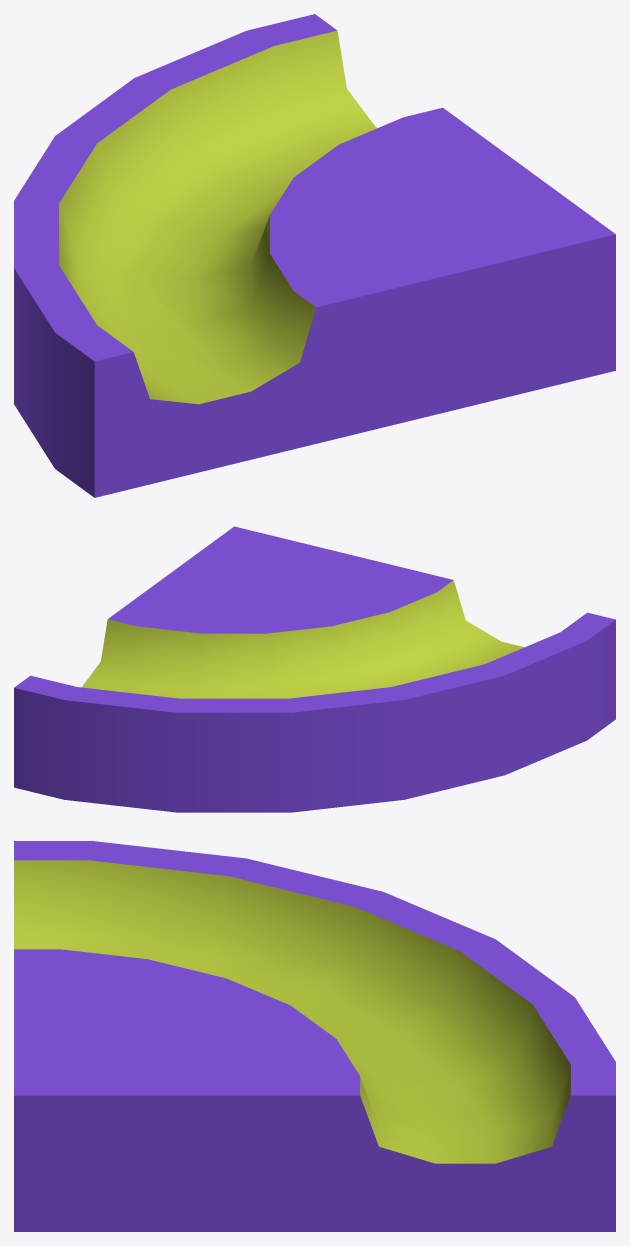
File: curve_solid-col.dae
The picture shows the model from 3 angles, top to bottom: view 1: azimuth 30°, elevation 25°; view 2: azimuth 150°, elevation 25°; view 3: azimuth 270°, elevation 25°; orthographic projection. The views are drawn at different scales.
Visible parts, largest first — view 1: curve_solid-col; view 2: curve_solid-col; view 3: curve_solid-col.
Part boxes in pixels (<box>): curve_solid-col: <box>14,14,615,497</box>; curve_solid-col: <box>14,526,615,812</box>; curve_solid-col: <box>14,841,615,1231</box>.
Bounding box in the file's own units: 2 × 2 × 0.5.
